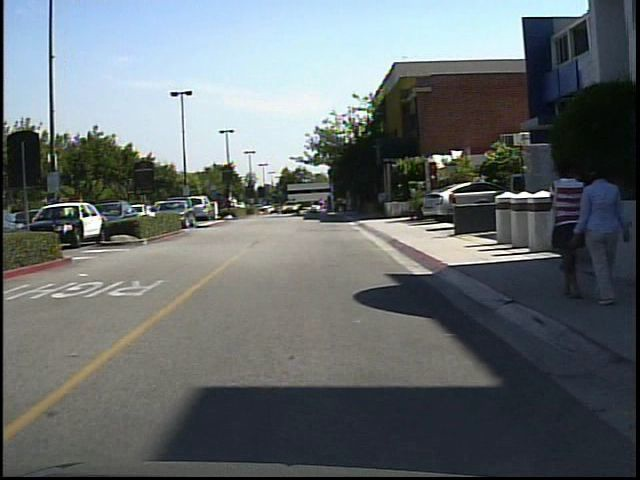person: (571, 159, 629, 305), (548, 153, 587, 302), (227, 191, 243, 219), (317, 196, 330, 222)
